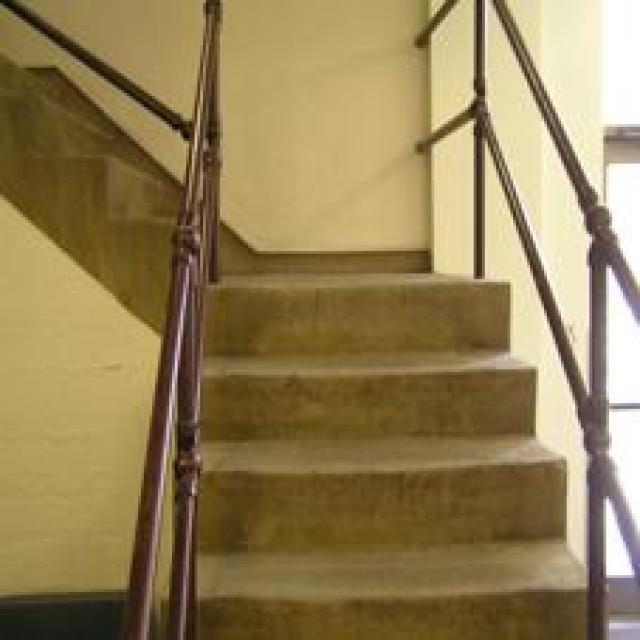stair: (164, 254, 604, 502)
